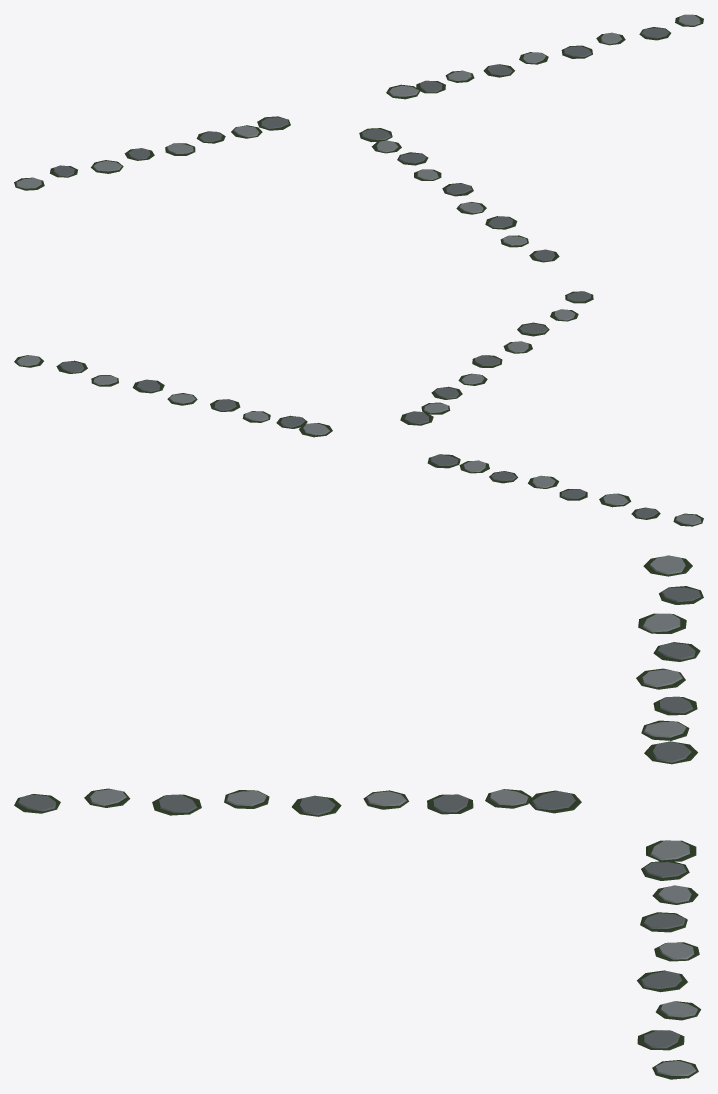
The model's file is garden_stepping_stones.glb.
3 views of the same model, one above another, from view 1: azimuth 30°, elevation 25°; view 2: azimuth 150°, elevation 25°; view 3: azimuth 270°, elevation 25° (orthographic). The views are drawn at different scales.
Parts seen in each view (by area): view 1: GardenSteppingStones; view 2: GardenSteppingStones; view 3: GardenSteppingStones.
Boxes of the visible parts, bbox=[...] form: GardenSteppingStones: bbox=[14, 14, 703, 262]; GardenSteppingStones: bbox=[14, 291, 703, 526]; GardenSteppingStones: bbox=[14, 555, 703, 1079].
Bounding box in the file's own units: 42.66 × 0.07 × 23.74.
